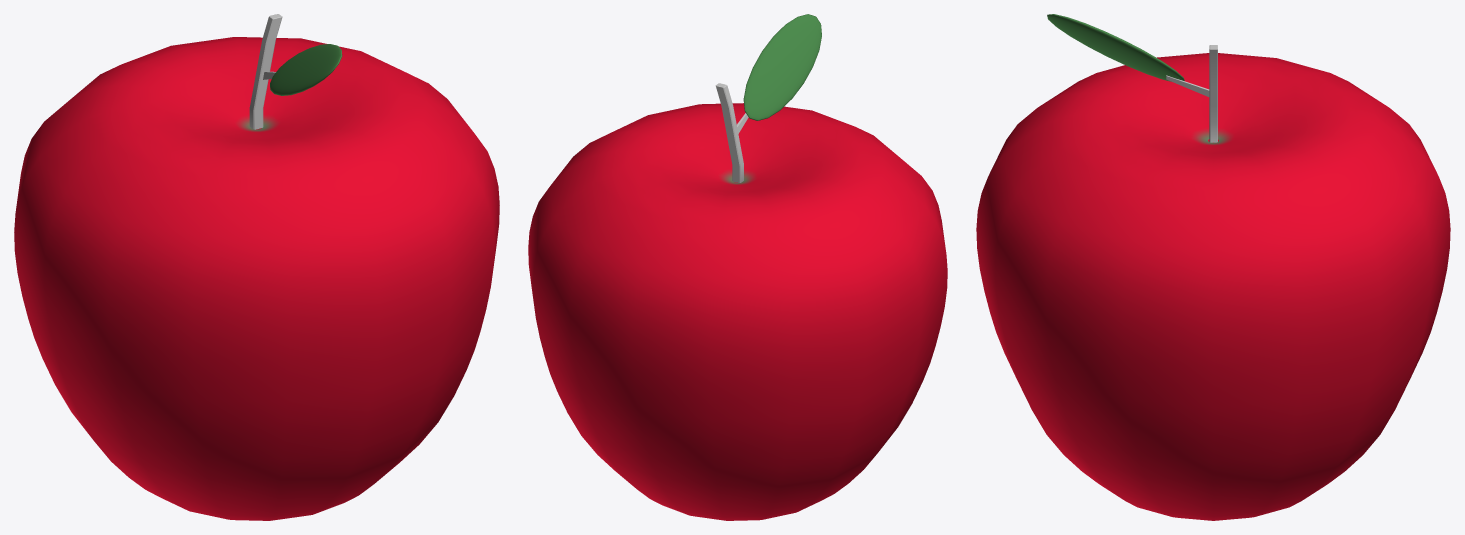
File: Apple.fbx
The picture shows the model from 3 angles, left to right: view 1: azimuth 30°, elevation 25°; view 2: azimuth 150°, elevation 25°; view 3: azimuth 270°, elevation 25°; orthographic projection. The views are drawn at different scales.
Visible parts, largest first — view 1: Apple, Leaf, AppleBrown; view 2: Apple, Leaf, AppleBrown; view 3: Apple, Leaf, AppleBrown.
Part boxes in pixels (<box>): Apple: <box>14,37,499,520</box>; Leaf: <box>270,44,342,95</box>; AppleBrown: <box>249,14,282,129</box>; Apple: <box>528,103,947,520</box>; Leaf: <box>743,14,821,120</box>; AppleBrown: <box>715,83,748,182</box>; Apple: <box>976,53,1450,520</box>; Leaf: <box>1047,14,1184,81</box>; AppleBrown: <box>1166,45,1217,142</box>.
Size of the model in its own units: 25.42 by 28.18 by 25.42.
